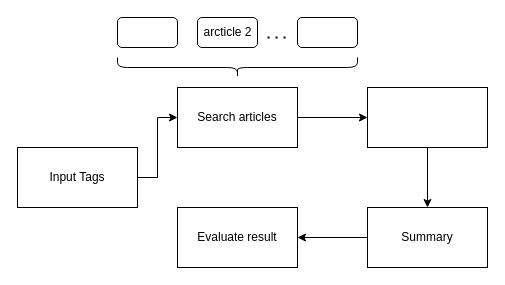
The diagram is 505 pixels wide and 285 high, and some of its shapes have lost their labels. Here are the shapes that lost their labels. From the top down, the box of each, then its label:
(116, 16, 178, 48): arcticle 1
(296, 16, 358, 48): arcticle 10
(366, 86, 488, 148): MDS model
